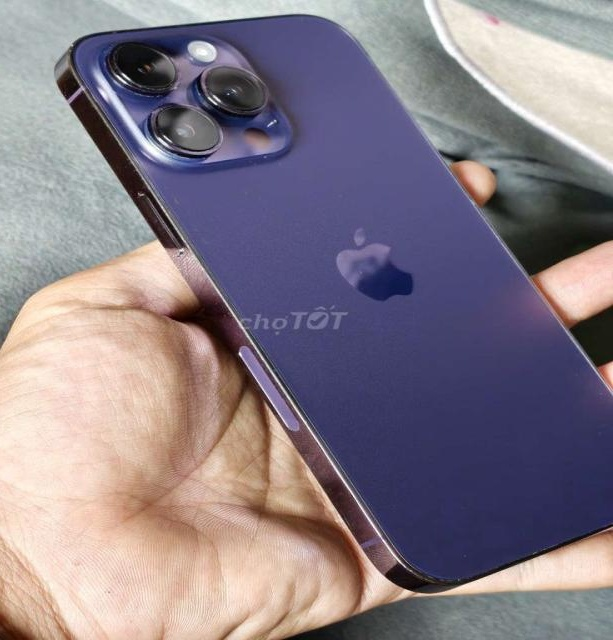scratch: (387, 556, 476, 600)
